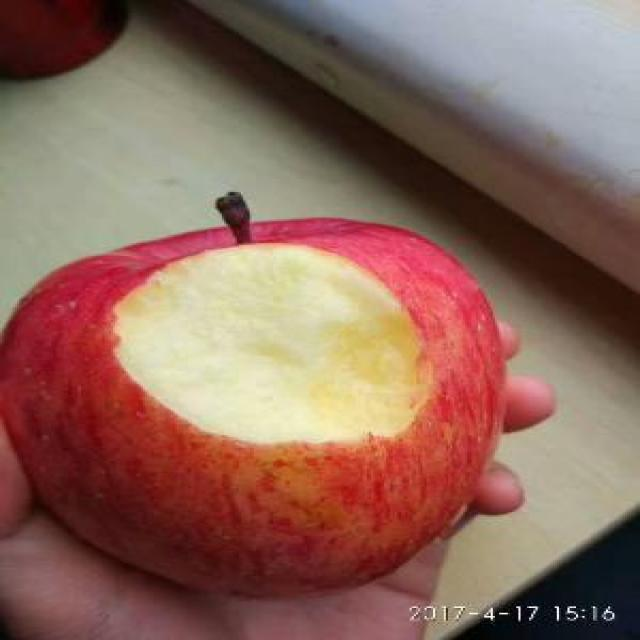Rotten: (9, 220, 517, 617)
